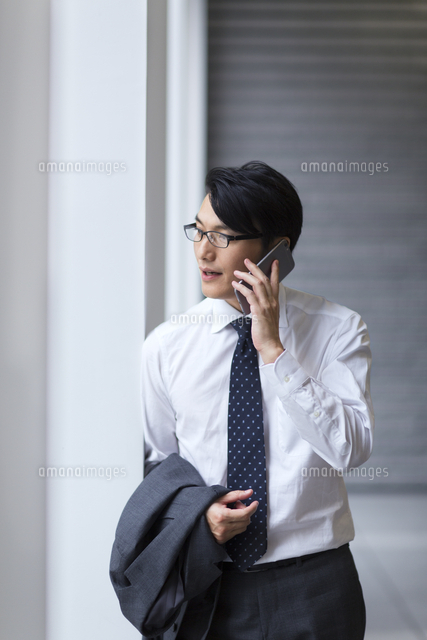phone: (230, 257, 291, 305)
talk: (187, 216, 295, 344)
